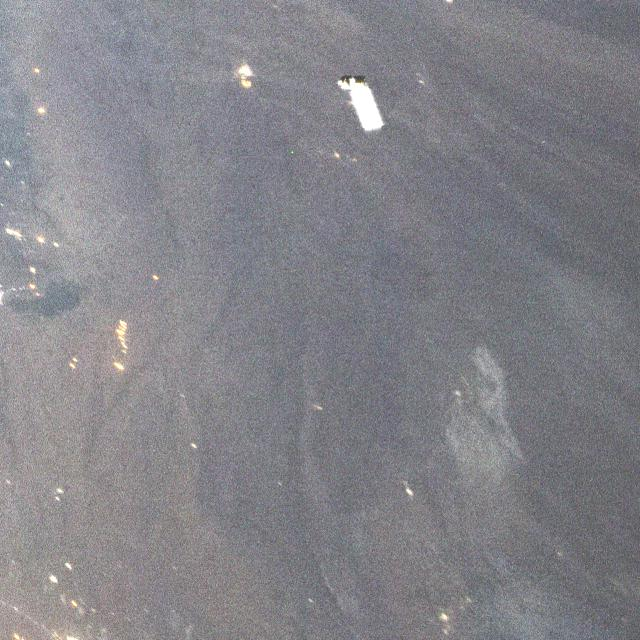satellite: (329, 69, 386, 145)
